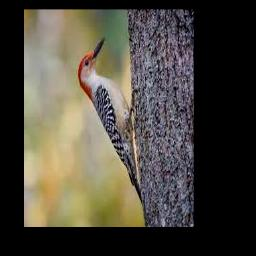Woodpecker: (78, 37, 143, 205)
